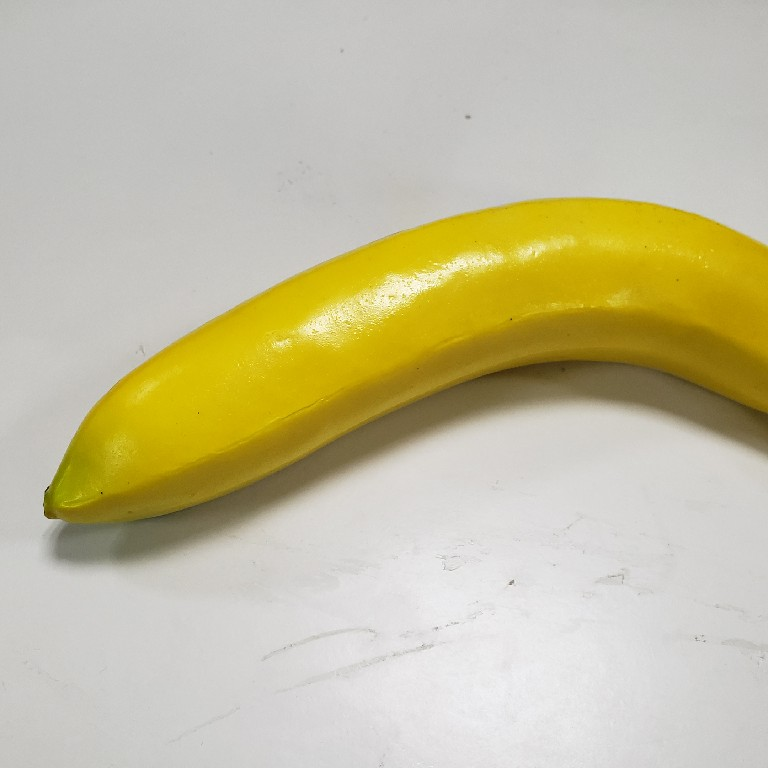fruit_banana: (38, 194, 768, 535)
